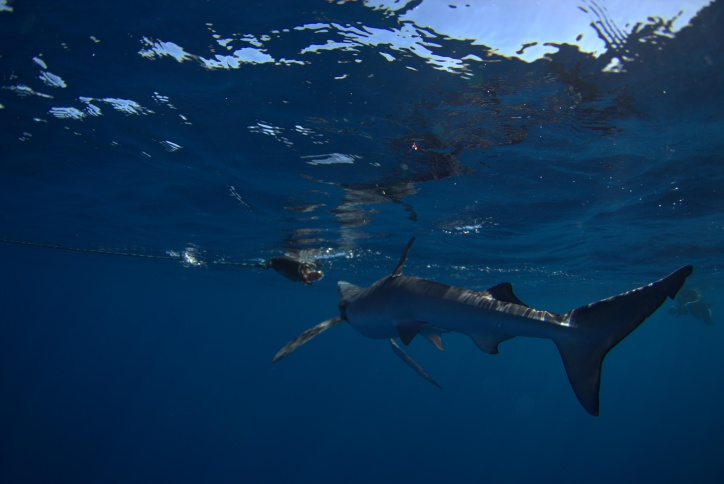Azul: (247, 97, 700, 390)
